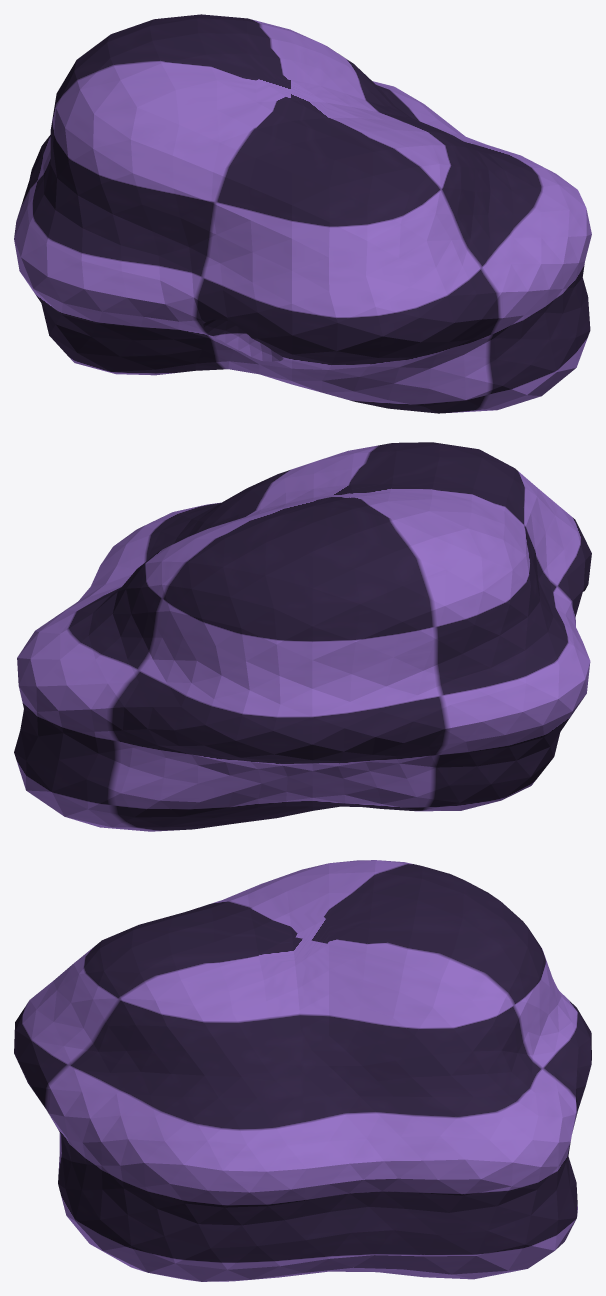
The picture shows the model from 3 angles, top to bottom: view 1: azimuth 30°, elevation 25°; view 2: azimuth 150°, elevation 25°; view 3: azimuth 270°, elevation 25°; orthographic projection. The views are drawn at different scales.
Visible parts, largest first — view 1: geometry_0; view 2: geometry_0; view 3: geometry_0.
Part boxes in pixels (x1,y1,x2,y2): geometry_0: (14, 14, 591, 413); geometry_0: (14, 442, 591, 831); geometry_0: (14, 860, 591, 1281).
Bounding box in the file's own units: 2.19 × 1.33 × 2.34.
1 material, 1 textured.
